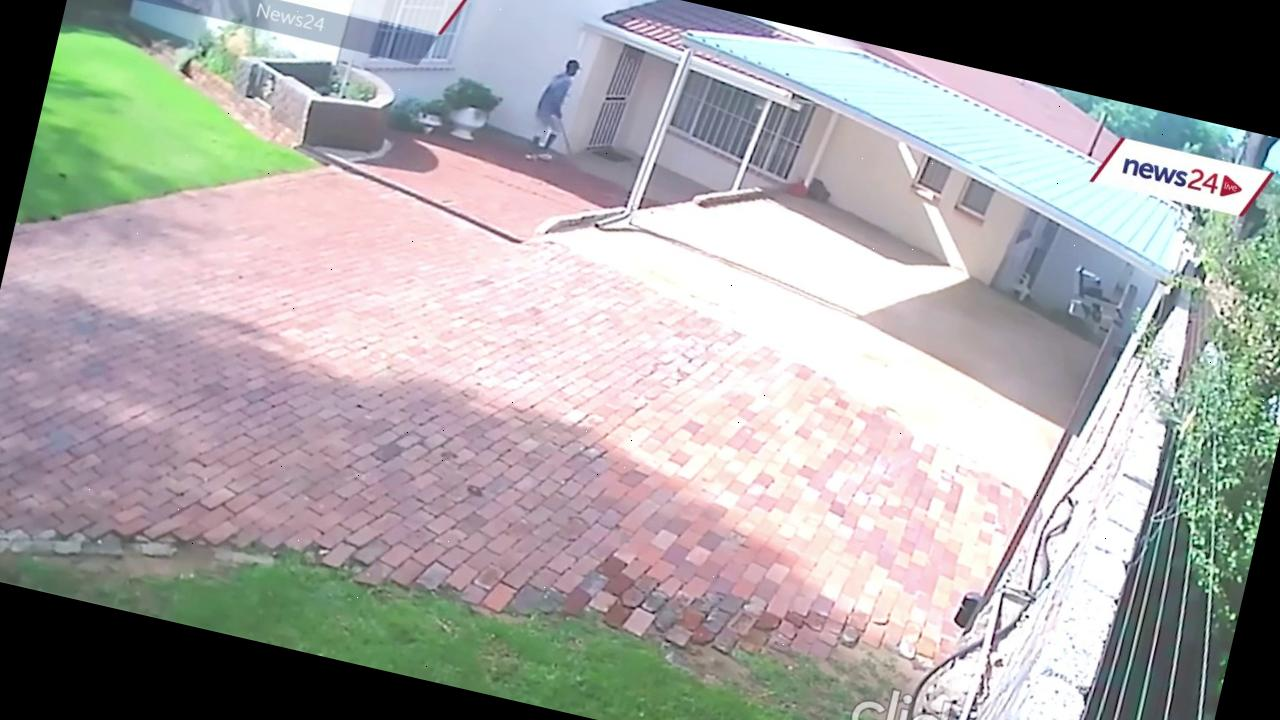suspicion: (510, 44, 603, 192)
